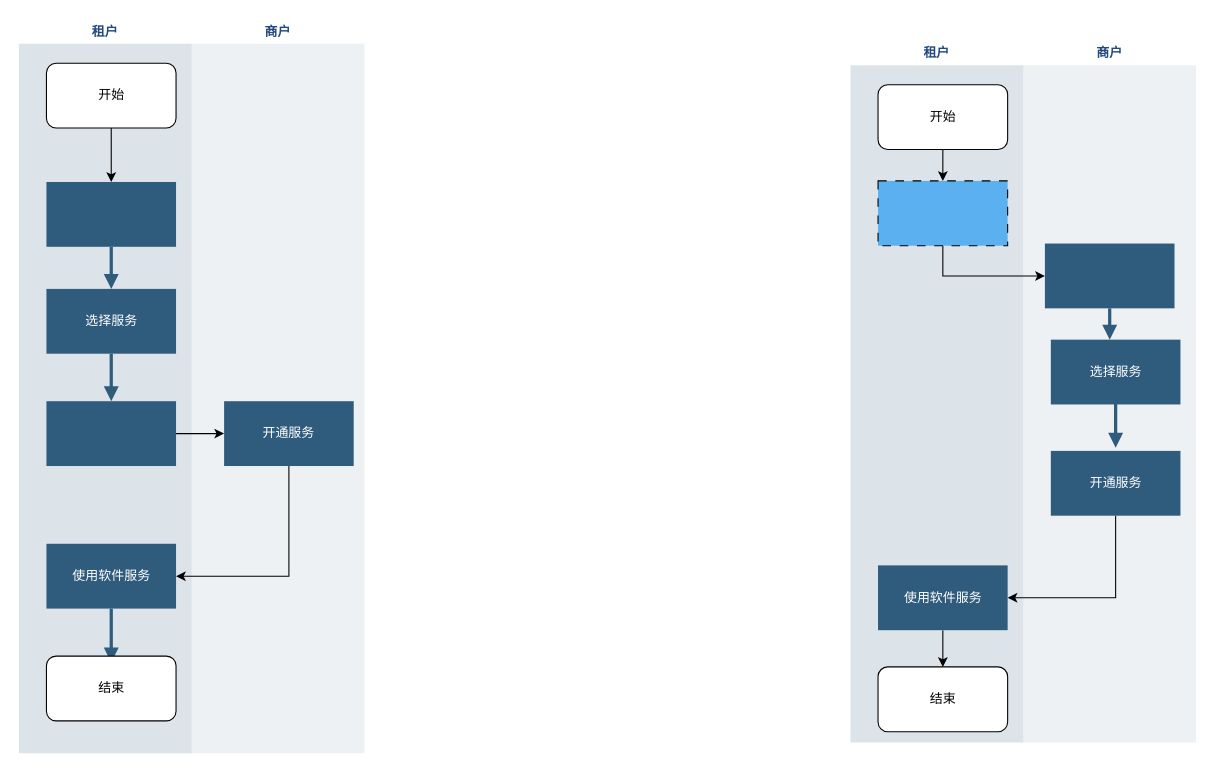
Some shapes in this 1214 by 771 pixel diagram are drawn without their labels. The box of each missing label's shape, as (x1, y1, x2, y2) in pixels:
付款: (46, 401, 176, 465)
填写注册信息: (46, 181, 176, 246)
填写租户信息: (1044, 243, 1174, 308)
线下购买服务: (877, 180, 1008, 246)
